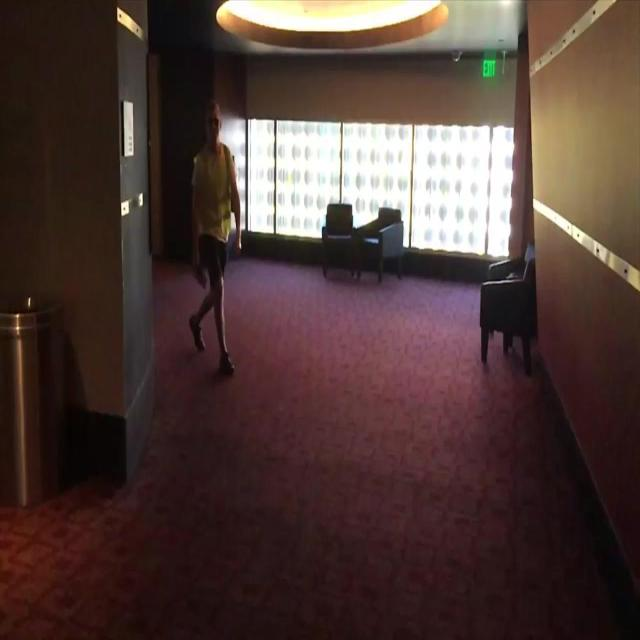Vest: (193, 142, 232, 243)
